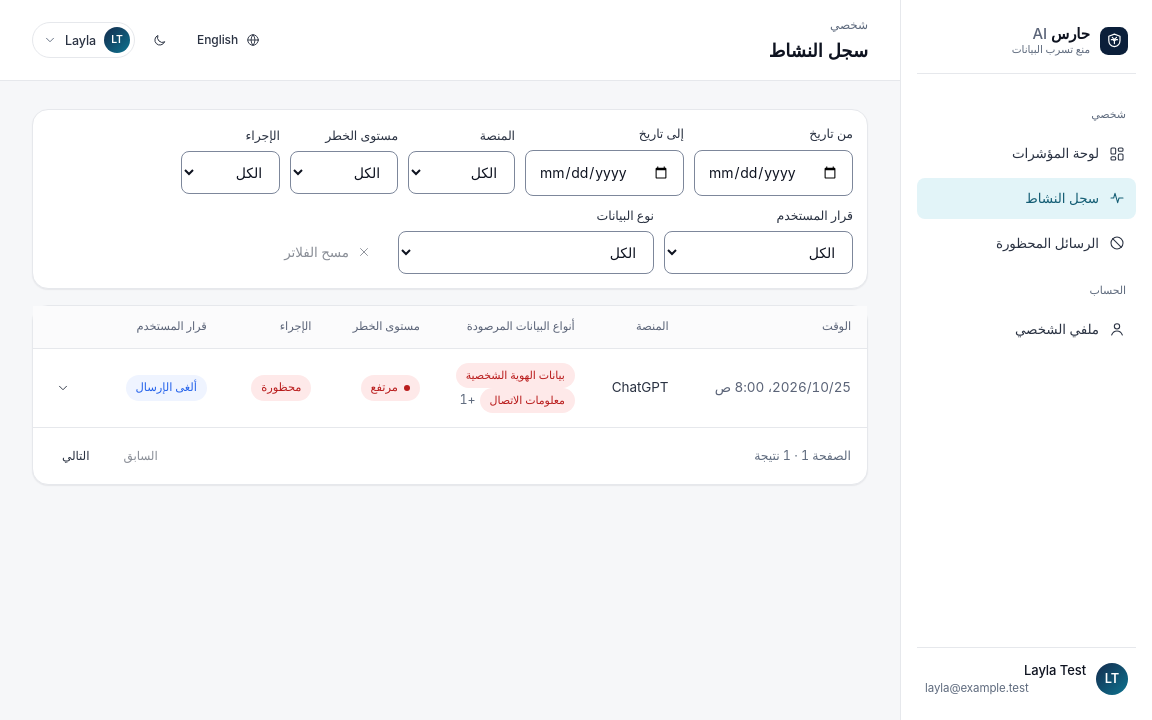
Test: activity and blocked pages › paging: next uses the cursor, previous goes back to the first page
Expected: the text "ChatGPT" is shown, [591,349,684,427]
Click the button "التالي" at (76, 456), box [49,440,102,472]
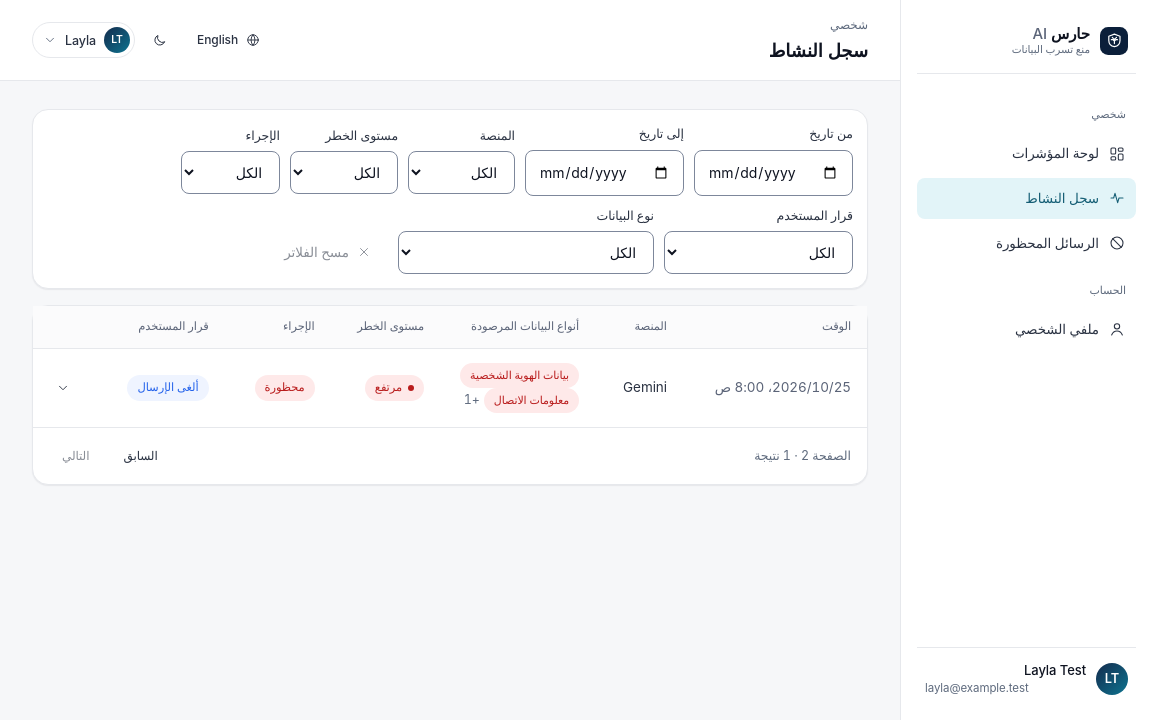
Result: the text "Gemini" is shown at [595,349,683,427]
Result: the button "التالي" is disabled at [49,440,102,472]
Click the button "السابق" at (141, 456), box [110,440,171,472]
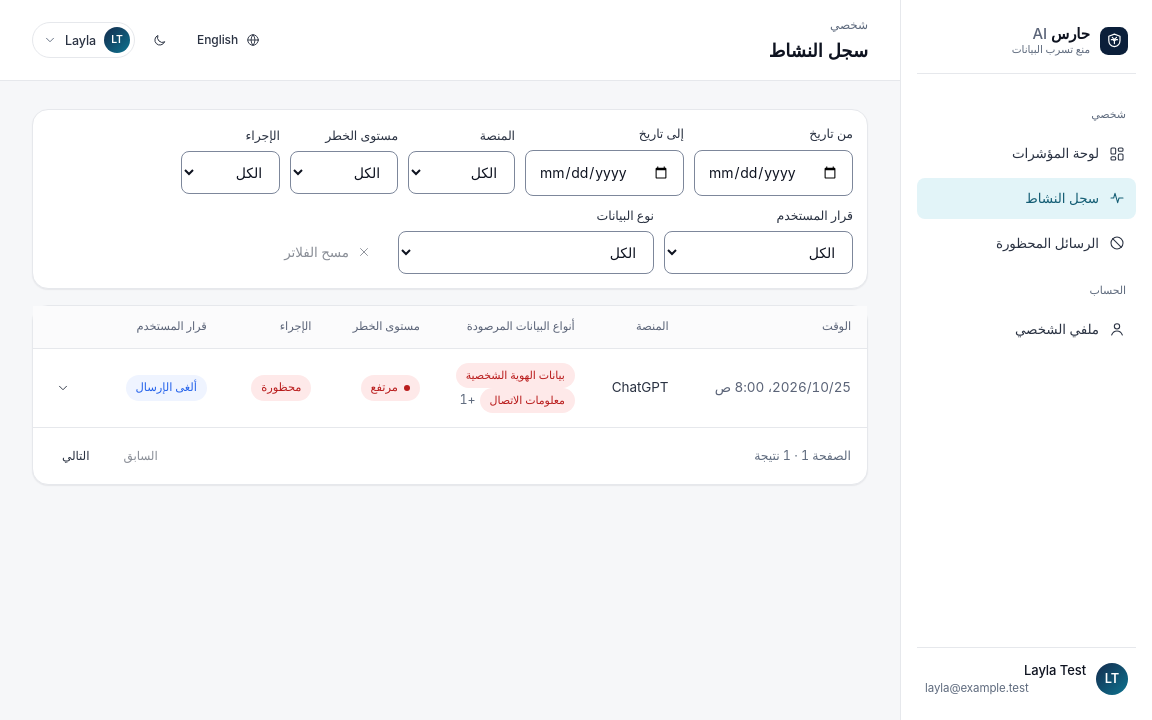
Result: the text "ChatGPT" is shown at [591,349,684,427]
